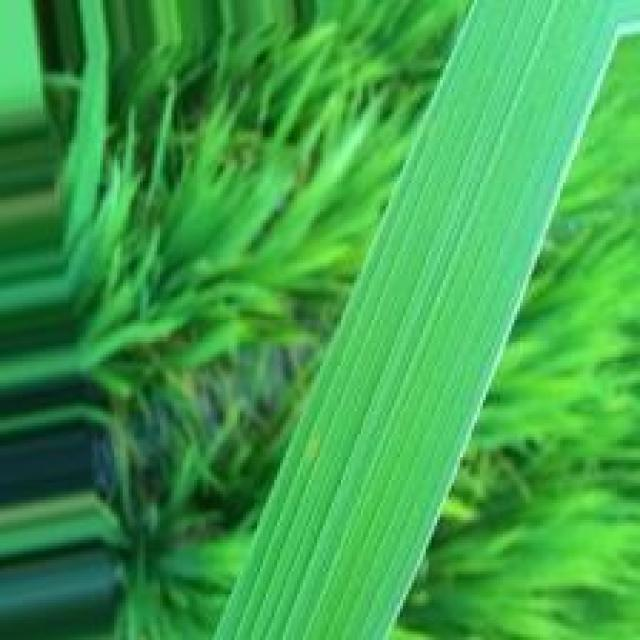HealthyLeaf: (211, 0, 638, 638)
